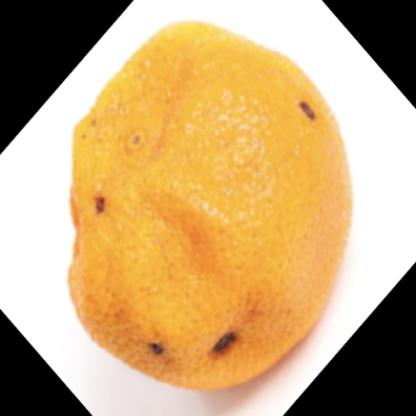rotten: (70, 20, 352, 391)
